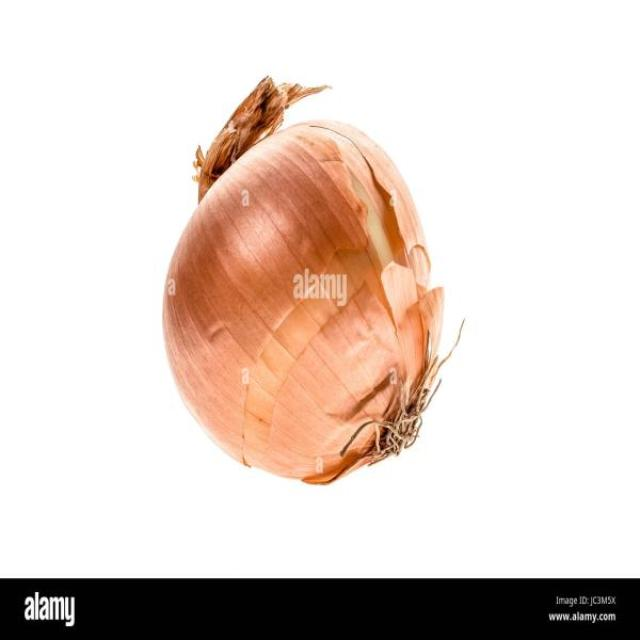Onion: (161, 77, 466, 487)
